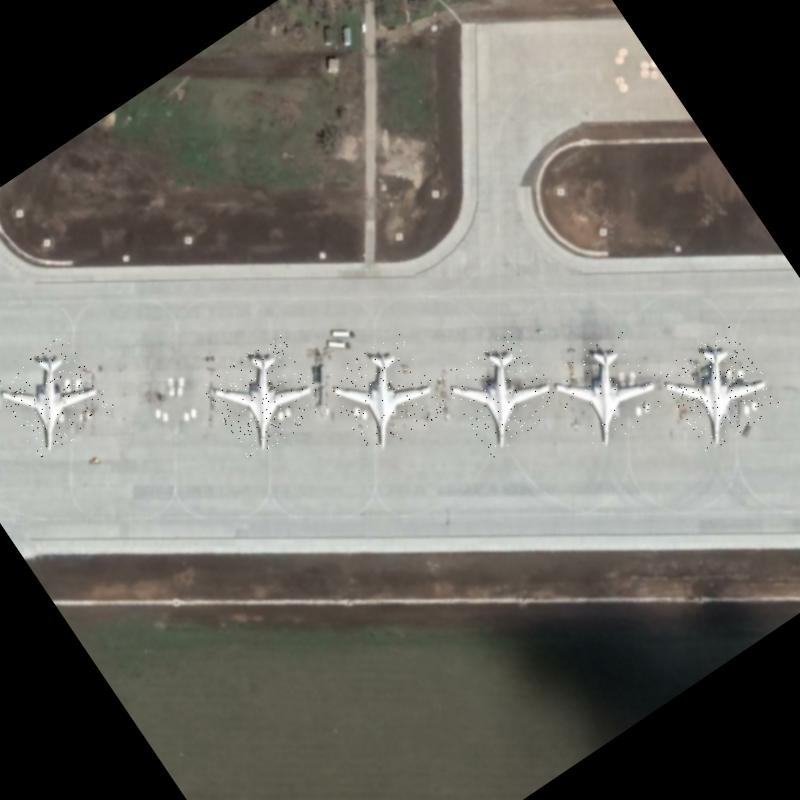A6: (320, 330, 450, 461), (438, 327, 568, 458), (542, 323, 672, 454), (200, 332, 330, 462), (654, 324, 784, 454), (0, 332, 117, 461)
